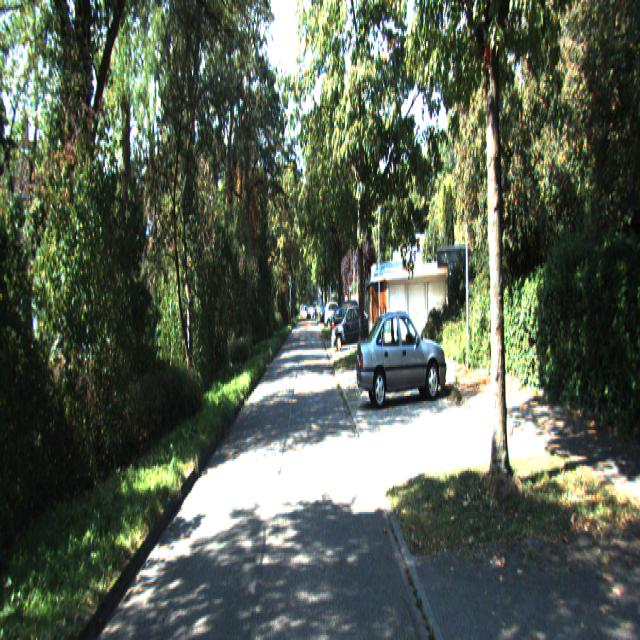Car: (355, 302, 448, 406), (332, 304, 370, 350)
